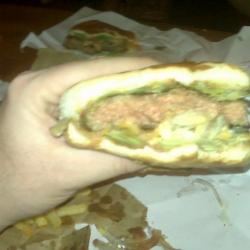burger: (58, 62, 250, 177), (62, 16, 145, 60)
